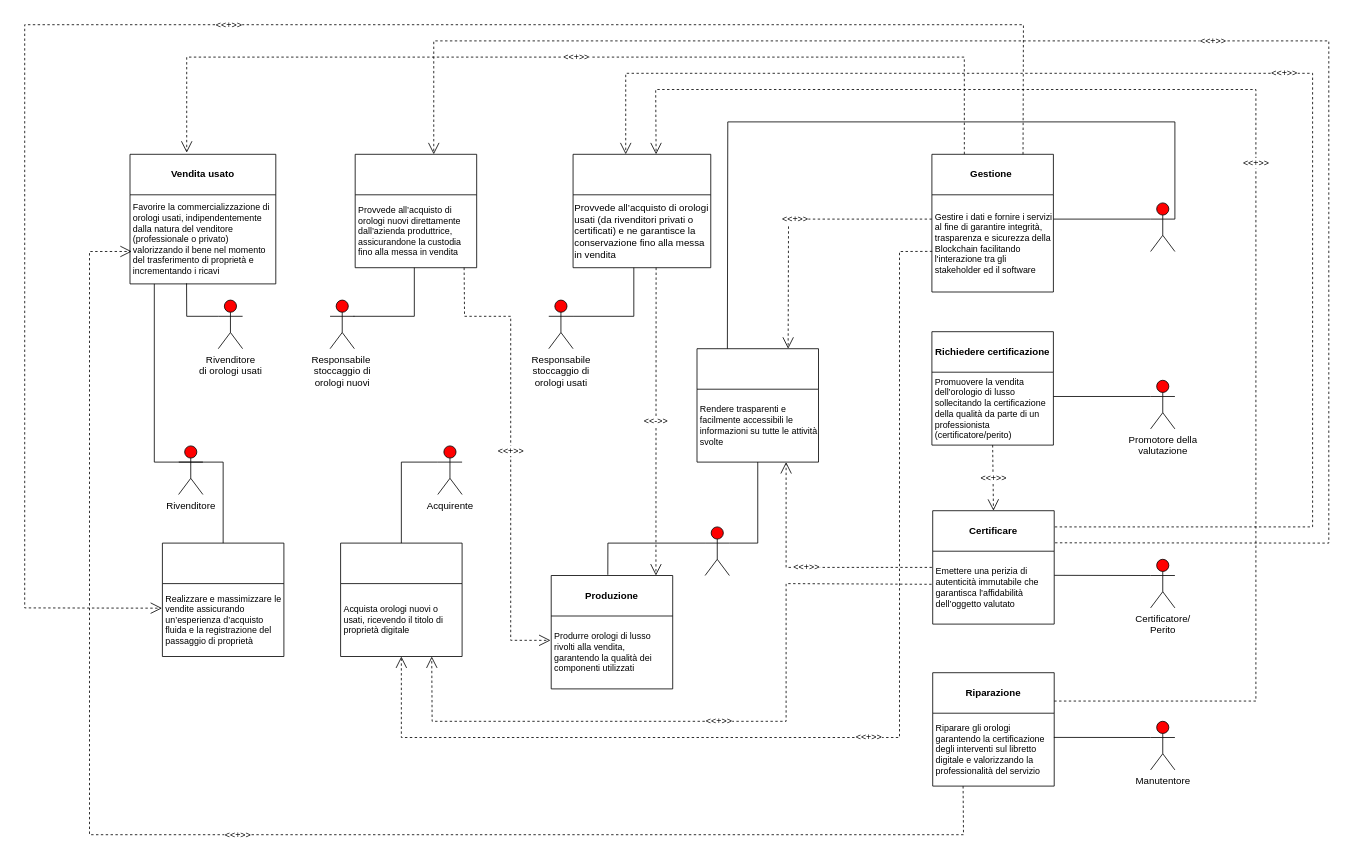
Some shapes in this 1354 by 860 pixel diagram are drawn without their labels. The shapes that lost their labels are listed below. From the top down, each one's box as (x1, y1, x2, y2) in pixels, then its label:
(354, 153, 477, 268): Acquisto orologi nuovi
(572, 153, 711, 268): Acquisto orologi usati
(1150, 202, 1175, 252): Amministratore e gestore della Piattaforma
(696, 348, 819, 462): Tracciabilità
(704, 526, 729, 576): Produttore
(162, 542, 284, 657): Vendita nuovo
(340, 542, 462, 657): Acquisto
